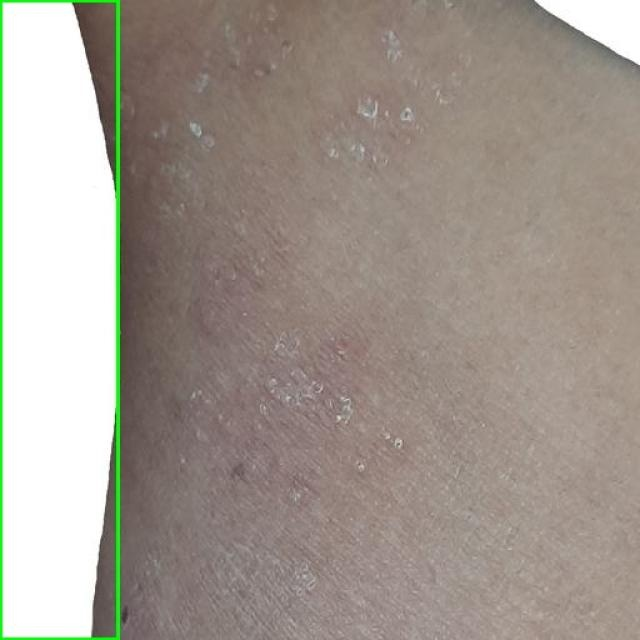Tinea Corporis: (0, 0, 118, 639)
